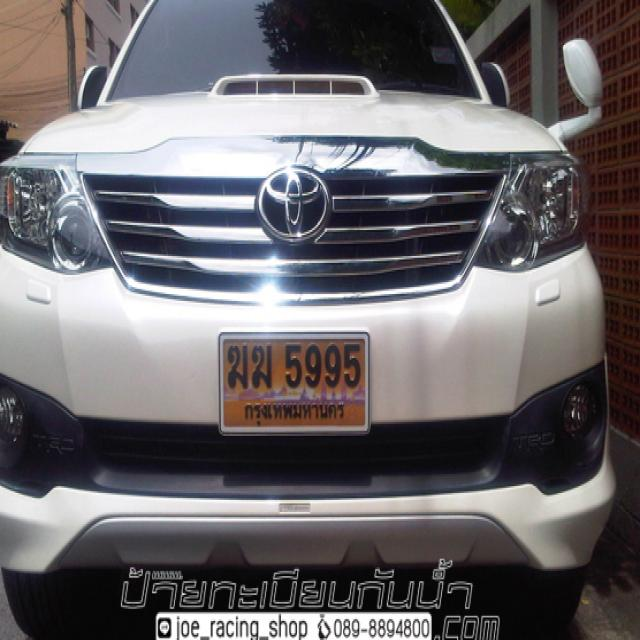license_plate: (217, 330, 373, 440)
